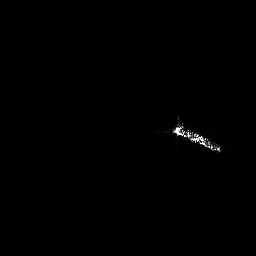ship: (170, 116, 223, 154)
